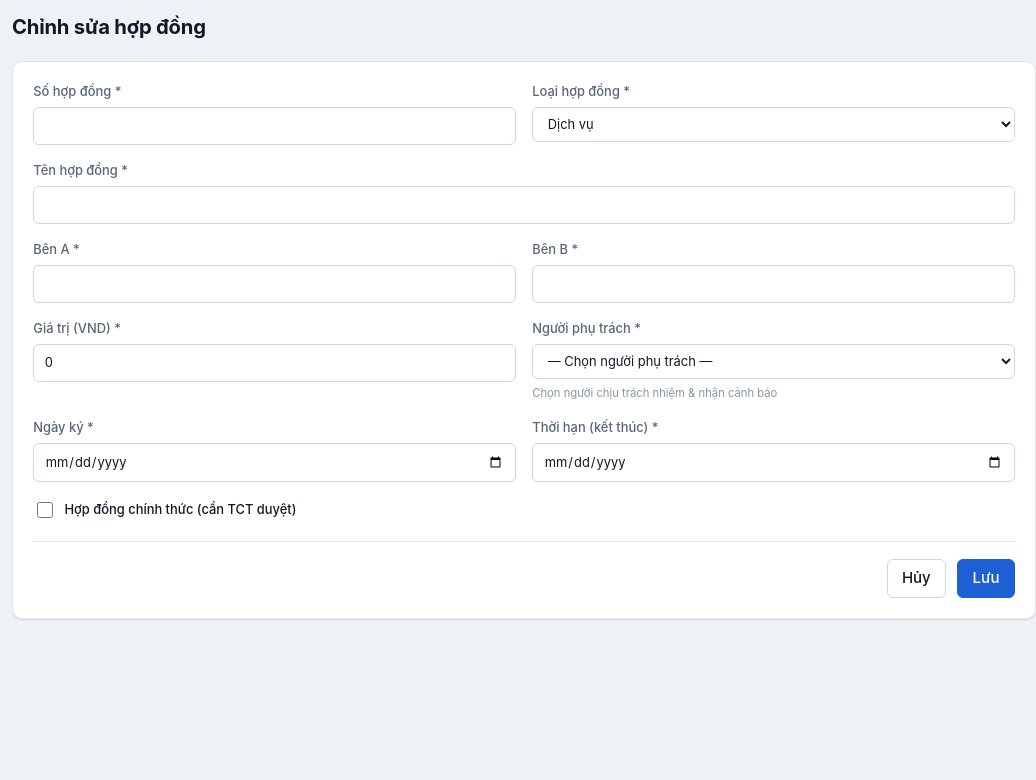
it: ContractFormPage › rejects a term end that is before the sign date
Type "HD-1" into the field labelled "Số hợp đồng *" at (275,126), box [33,107,516,145]
Type "Test" into the field labelled "Tên hợp đồng *" at (524,205), box [33,186,1015,224]
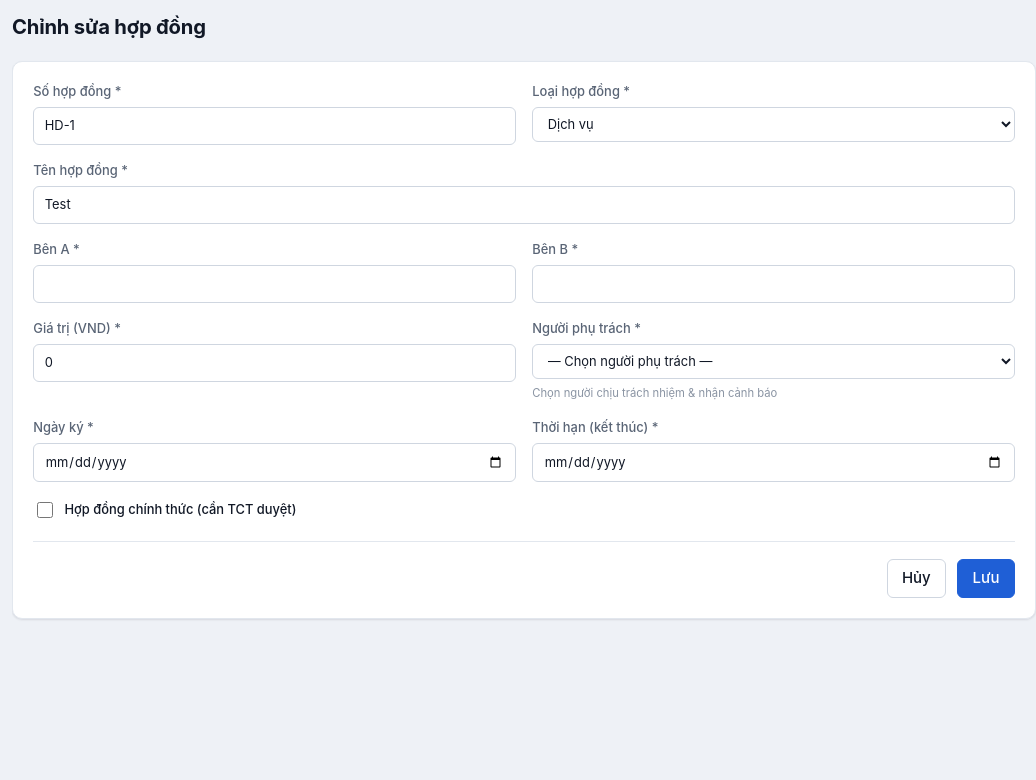
Type "VATM" into the field labelled "Bên A *" at (275,284), box [33,265,516,303]
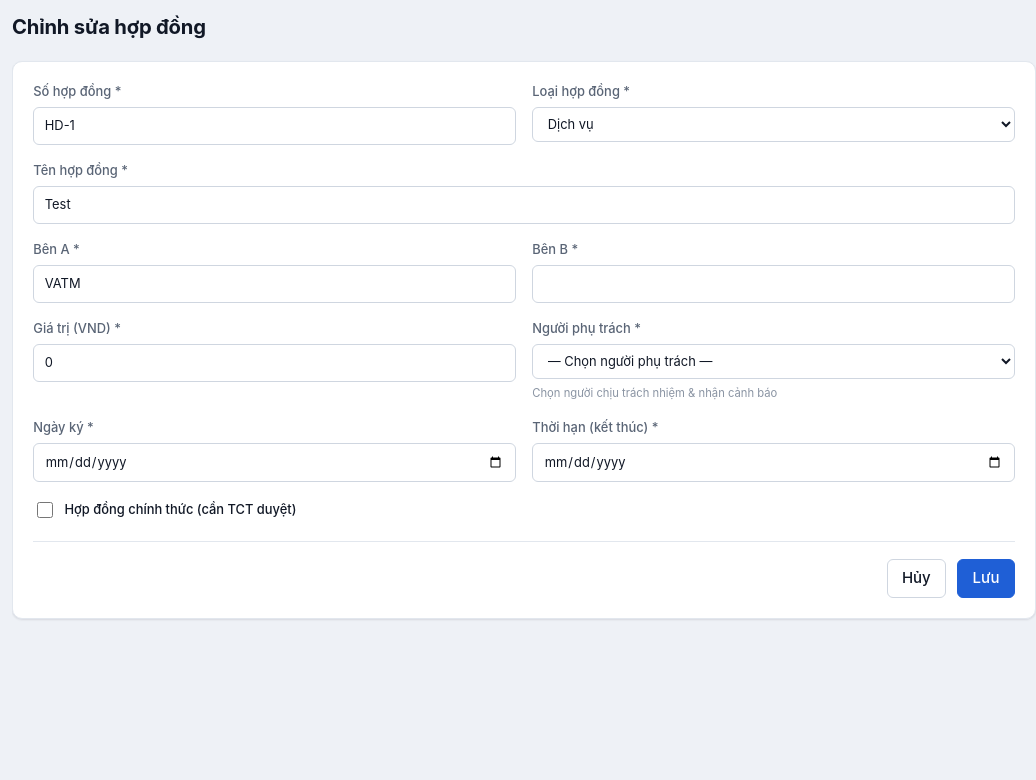
Type "Đối tác" into the field labelled "Bên B *" at (774,284), box [532,265,1015,303]
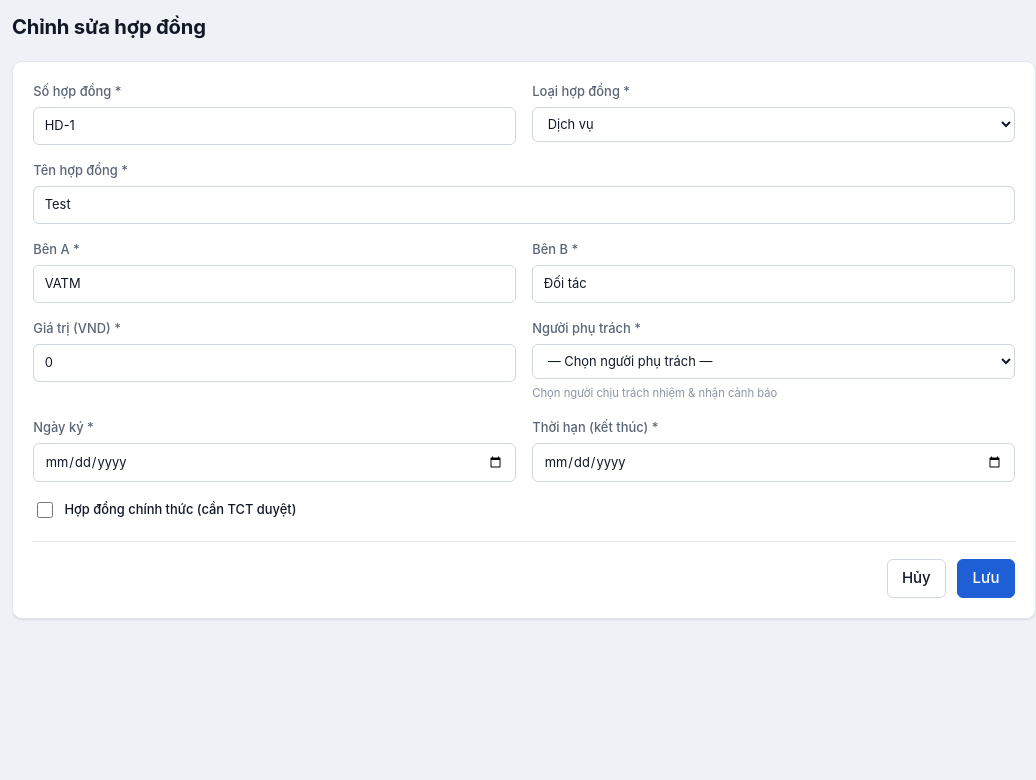
Type "2026-06-01" into the date field labelled "Ngày ký *" at (275,462), box [33,442,516,482]
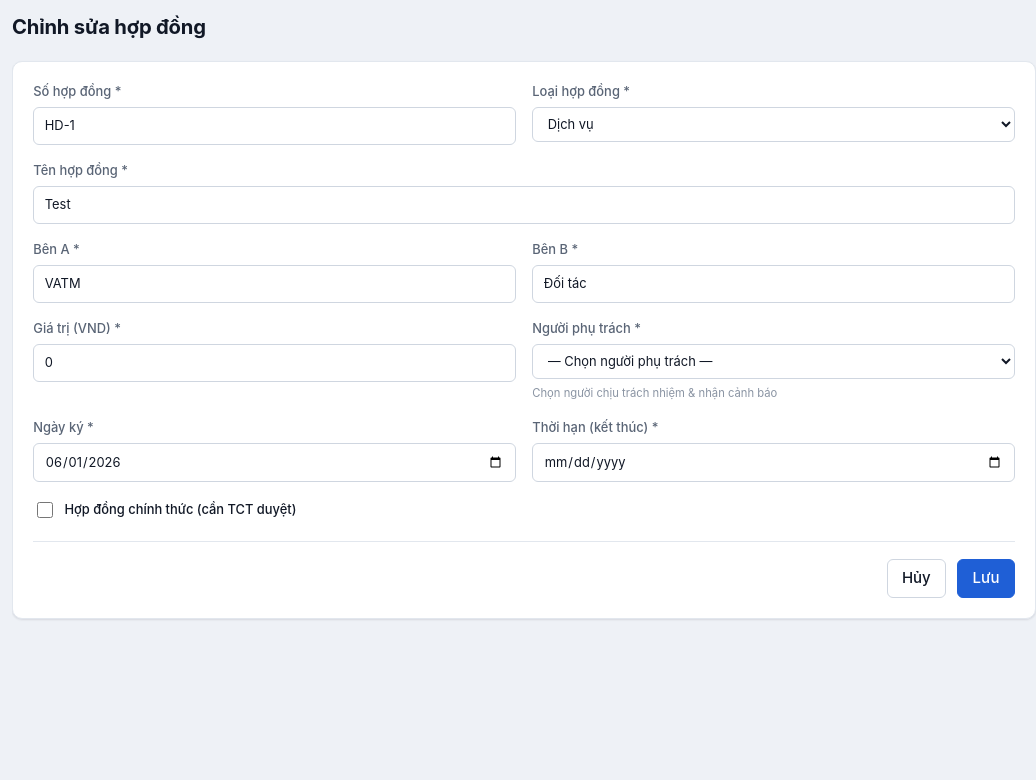
Type "2026-01-01" into the date field labelled "Thời hạn (kết thúc) *" at (774,462), box [532,442,1015,482]
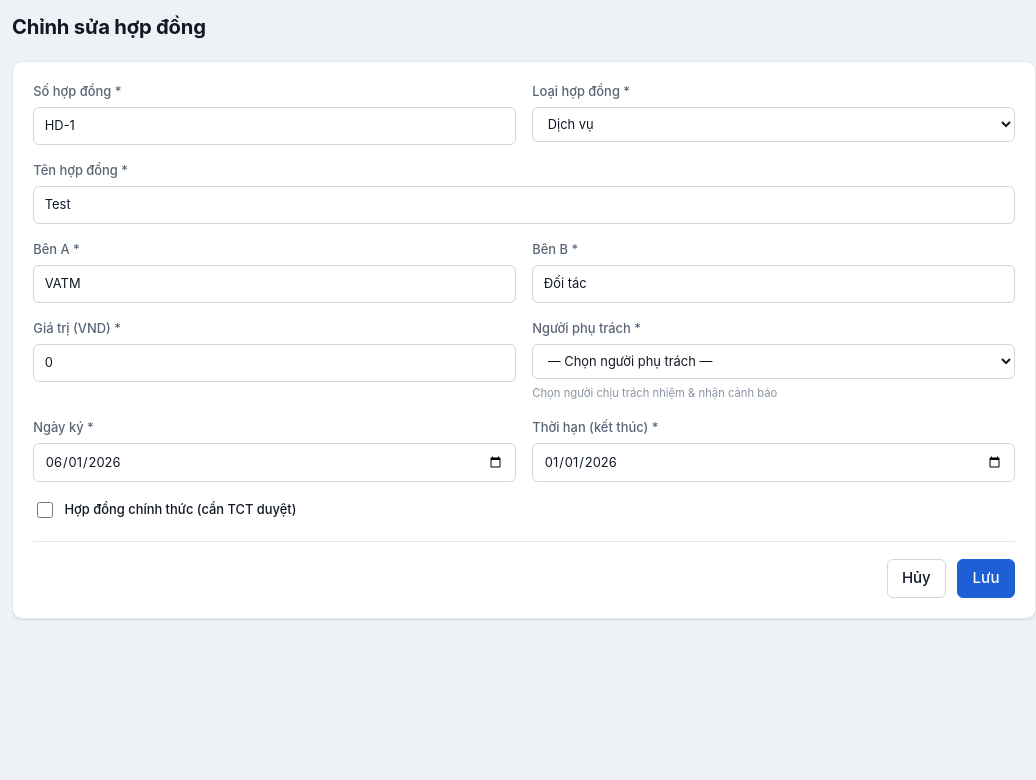
Click the button "Lưu" at (986,578), box [957,559,1015,598]
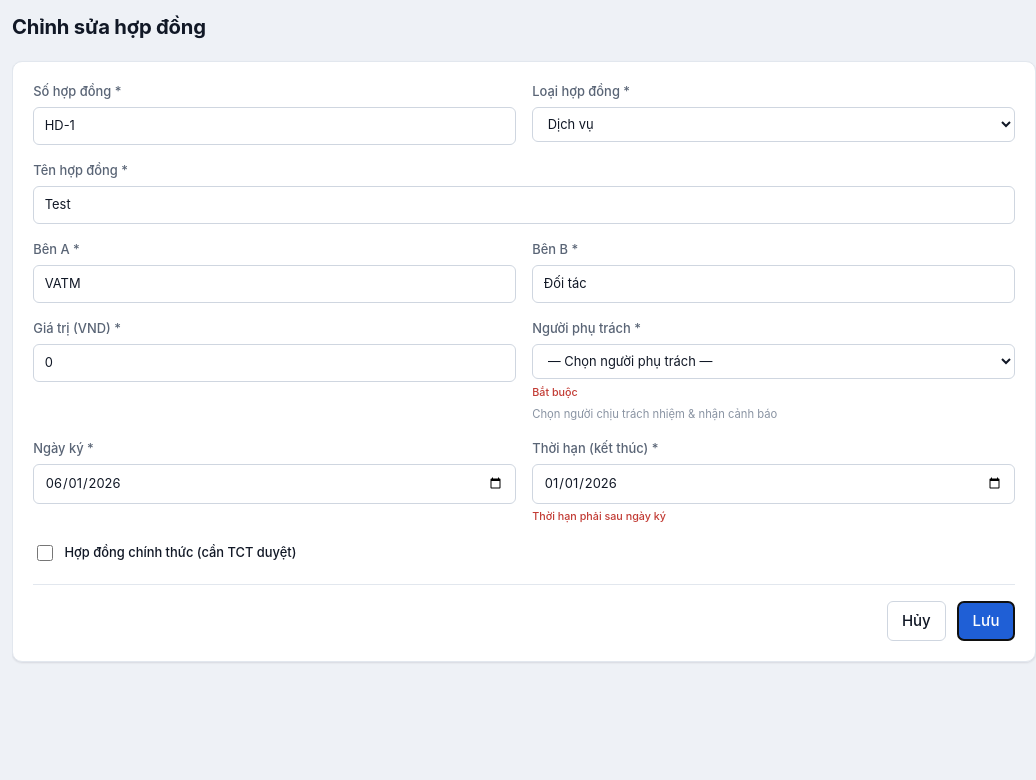
Expected: the text "Thời hạn phải sau ngày ký" is shown, [532,510,666,523]
